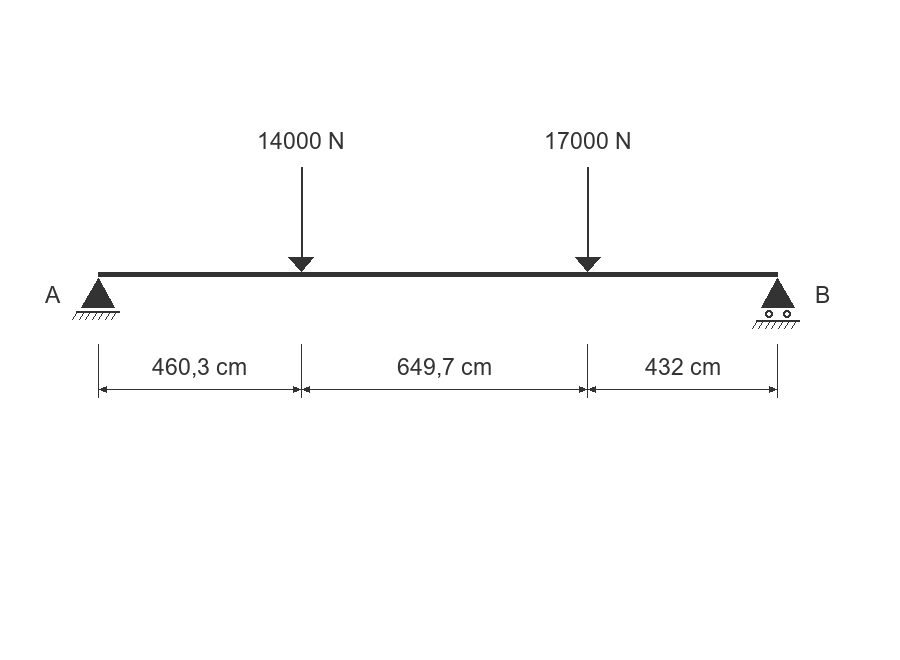pin_support: (72, 278, 120, 320)
point_load: (288, 167, 314, 272), (575, 167, 601, 272)
roller_support: (752, 278, 800, 329)
